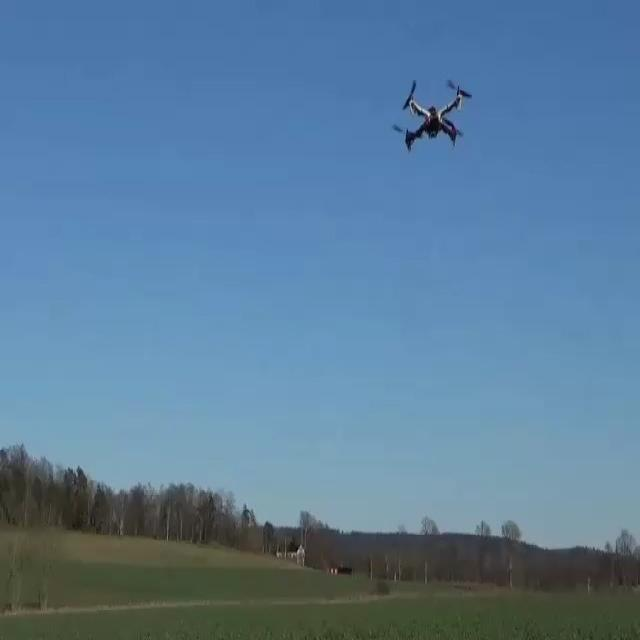drone: (393, 78, 474, 154)
